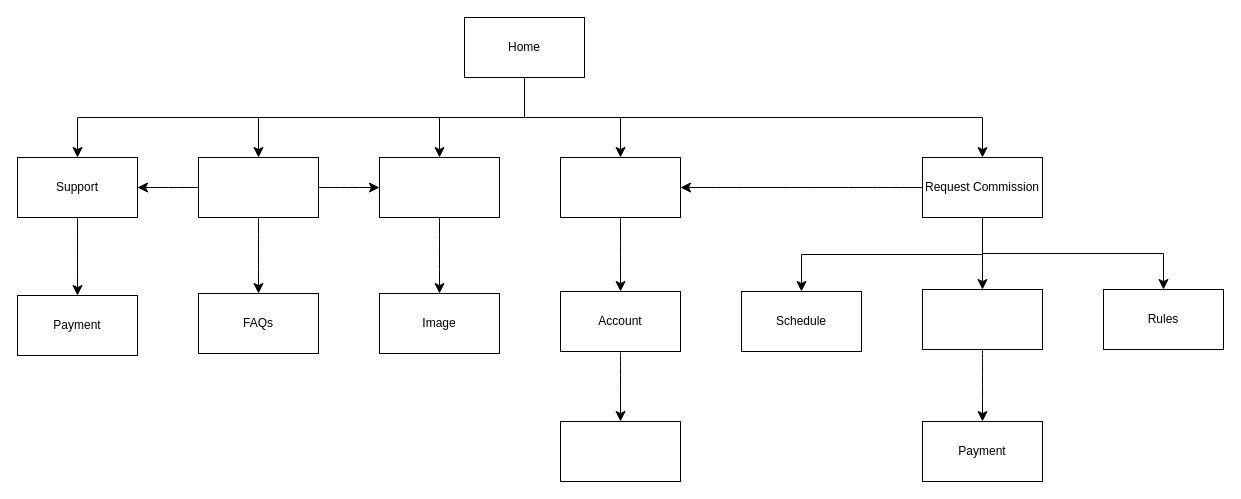
The diagram is 1241 pixels wide and 499 high, and some of its shapes have lost their labels. The centre of each missing label's shape, as x and y in pixels:
About/Contact: pixel 258 187
Commission Form: pixel 982 319
Gallery: pixel 439 187
Login/Sign up: pixel 620 187
View Orders: pixel 620 451
